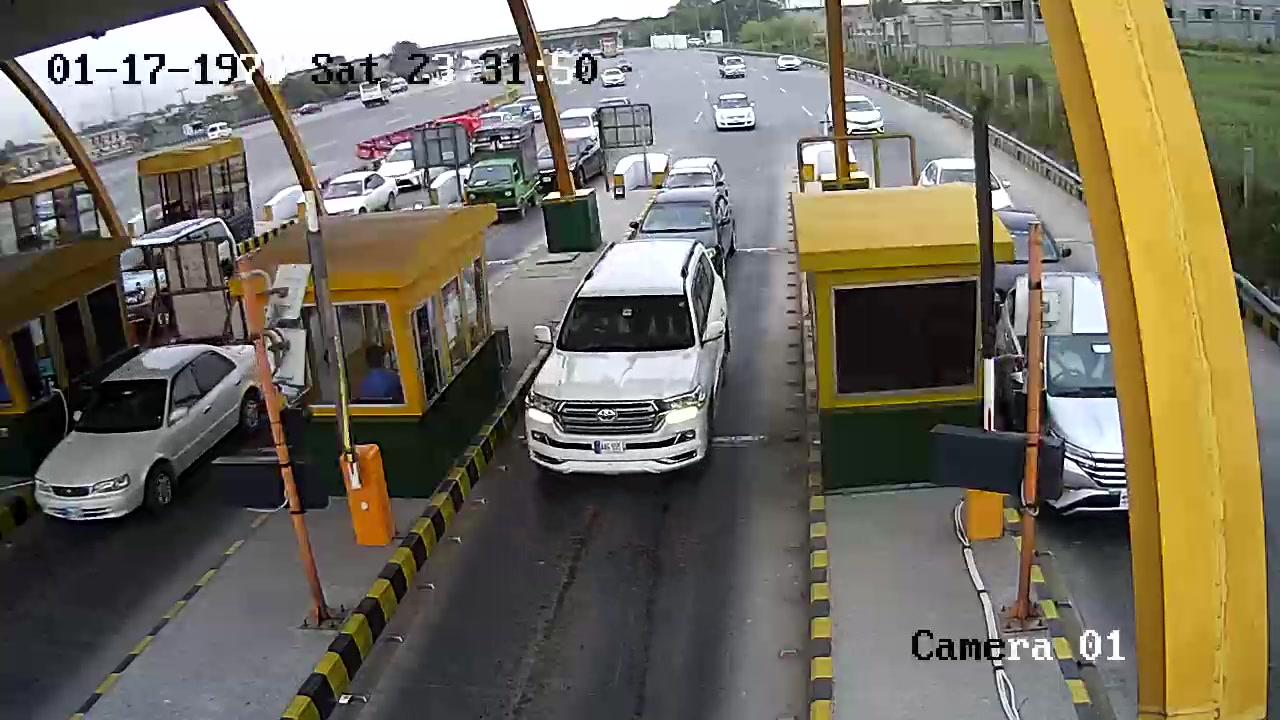F1: (519, 238, 749, 490)
